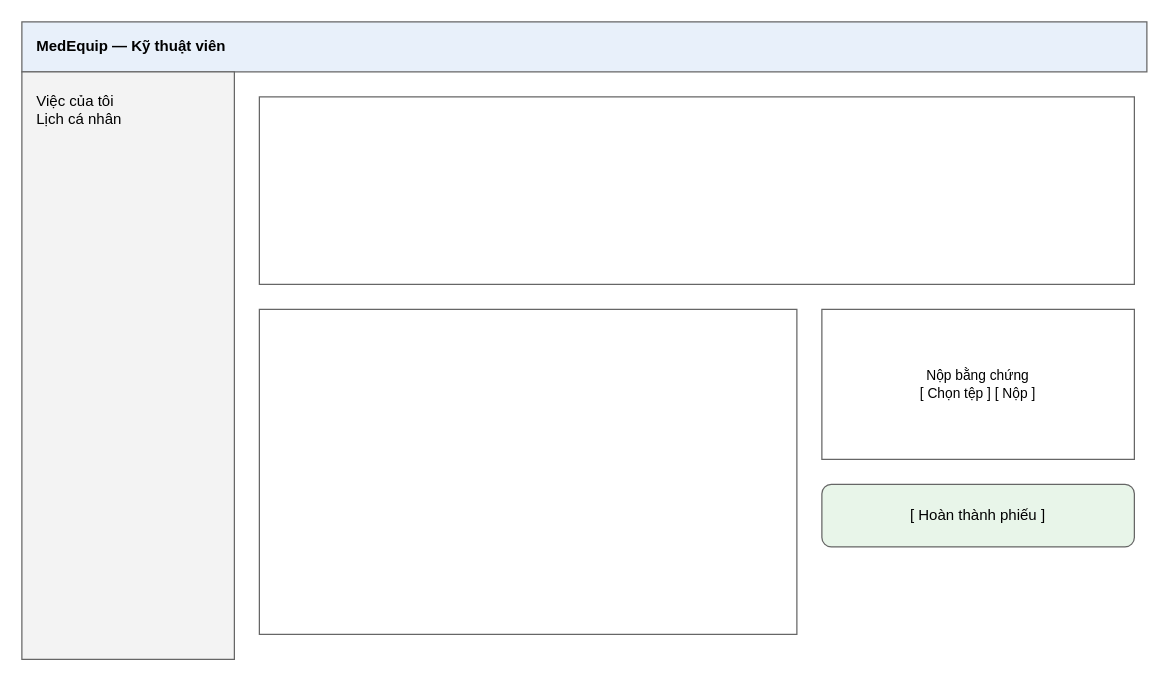
This 1169x681 diagram has some shape labels left out. Each missing label, with the box of its shape:
Chi tiết phiếu: các bước thực hiện, giá trị đo, ĐẠT / KHÔNG ĐẠT: (258, 308, 797, 634)
Phiếu được giao cho tôi (mã phiếu | thiết bị | trạng thái): (258, 96, 1134, 284)
